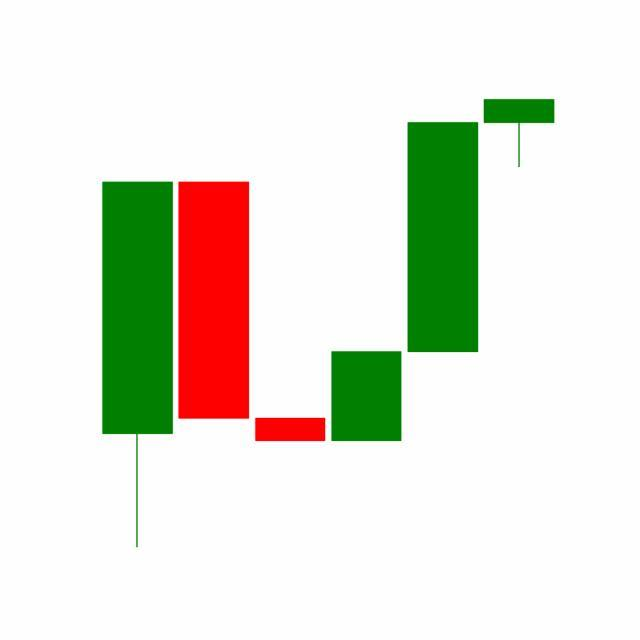Marubozu: (404, 120, 482, 355)
